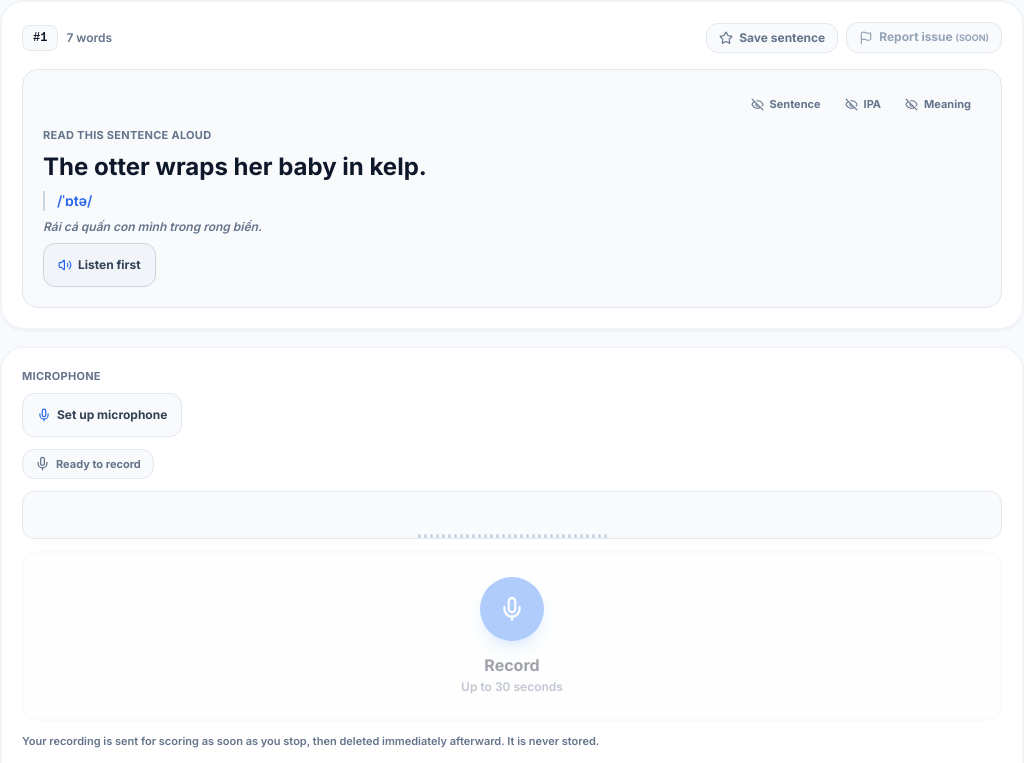
Test case: ShadowingModePanel — failures each say their own thing › names a busy device as busy rather than as a permission problem
What coordinates should you click on to do the following:
click the button "Set up microphone"
I would click on:
 (102, 414)
Its box is [22,392,182,436].
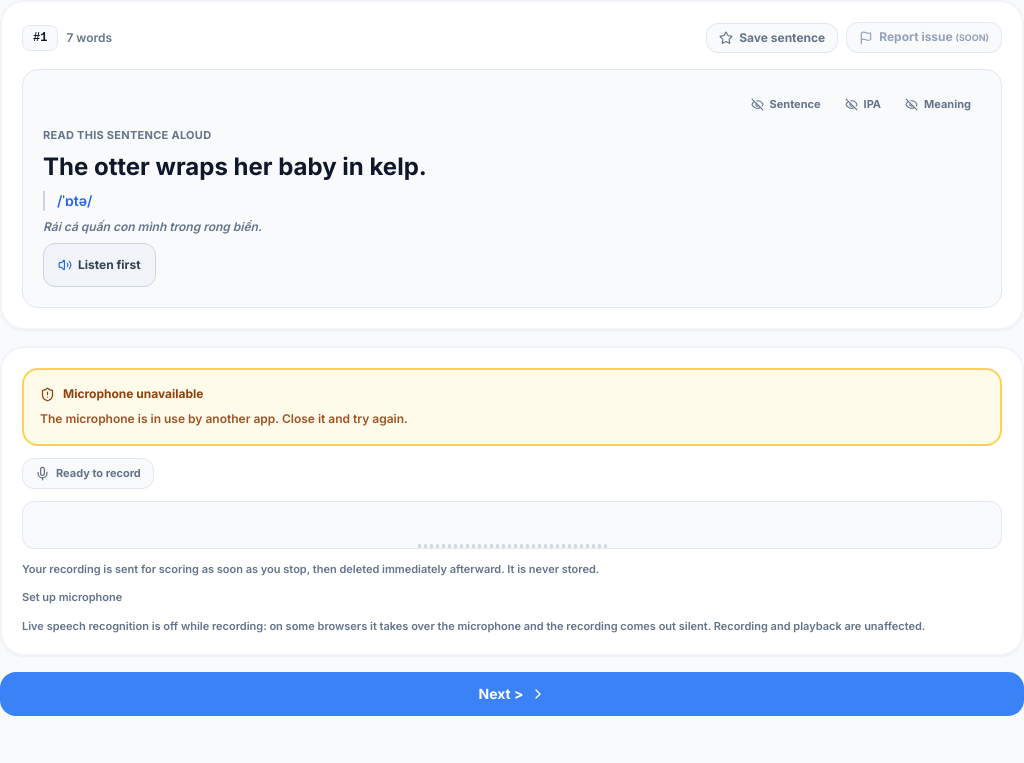
Expected: the text "in use by another app" is shown, [40,411,408,426]
